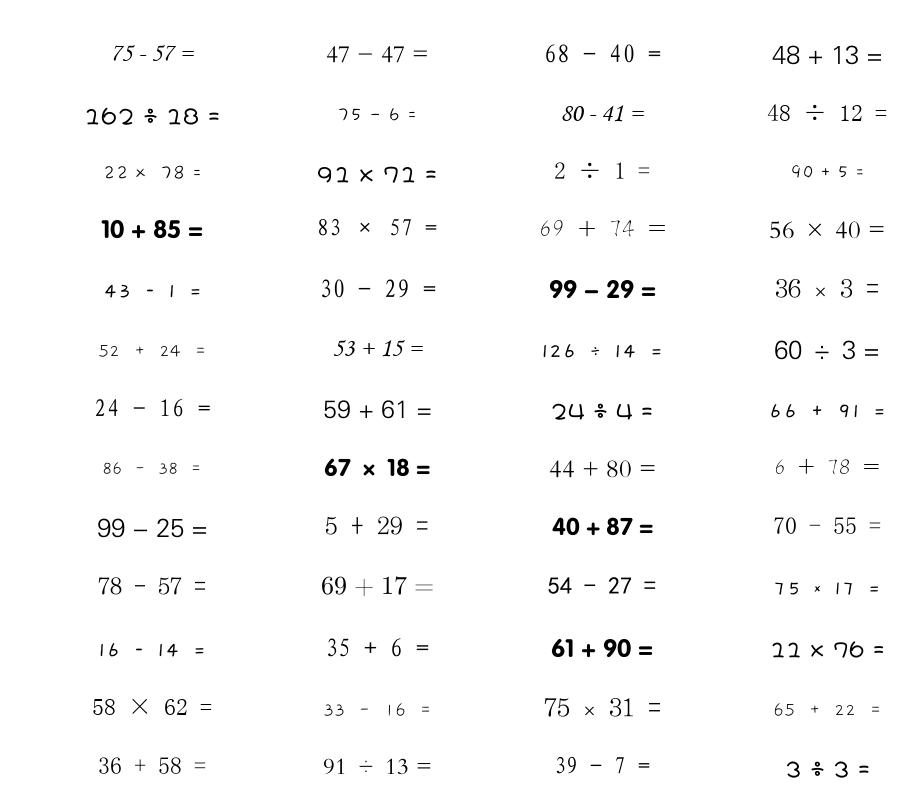MQ: (84, 107, 220, 125), (321, 576, 434, 597), (539, 219, 666, 237), (544, 44, 661, 63), (319, 279, 436, 298), (544, 698, 661, 717), (772, 45, 883, 65), (97, 518, 208, 538), (317, 218, 437, 236), (549, 279, 656, 299), (774, 340, 880, 360), (94, 399, 211, 417), (769, 221, 885, 239), (323, 400, 432, 419), (767, 104, 887, 121), (317, 166, 437, 183), (101, 219, 203, 239), (551, 638, 653, 658), (92, 698, 212, 715), (324, 458, 430, 477), (775, 279, 879, 298), (325, 516, 429, 535), (325, 638, 429, 657), (770, 641, 885, 658), (98, 577, 206, 595), (549, 460, 656, 478), (552, 517, 653, 536), (323, 758, 432, 775), (773, 517, 881, 534), (548, 577, 656, 594), (98, 757, 206, 774), (326, 46, 429, 63), (551, 403, 653, 420), (554, 756, 650, 774), (541, 344, 663, 358), (774, 459, 880, 475), (768, 404, 886, 418), (554, 162, 650, 179), (332, 340, 423, 357), (98, 344, 207, 358), (323, 703, 432, 717), (773, 703, 882, 717), (98, 643, 206, 657), (103, 165, 202, 180), (785, 761, 870, 778), (560, 105, 644, 122), (773, 582, 881, 595), (103, 284, 202, 298), (110, 45, 194, 61), (102, 462, 202, 475), (337, 108, 417, 122), (790, 165, 865, 179)
